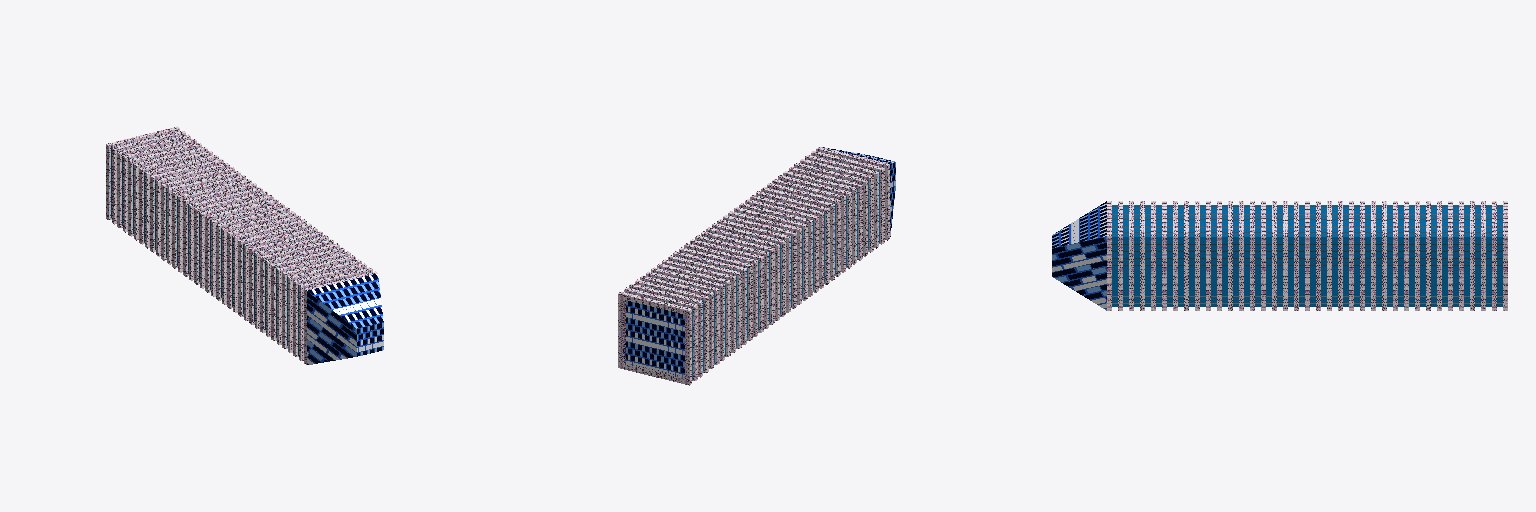
3 views of the same model, side by side, from view 1: azimuth 30°, elevation 25°; view 2: azimuth 150°, elevation 25°; view 3: azimuth 270°, elevation 25° (orthographic).
Parts seen in each view (by area): view 1: Wall_01, Wall_02, Slab_01, Glass_01; view 2: Wall_02, Wall_01, Slab_01, Glass_01; view 3: Wall_01, Glass_01, Slab_01, Frame_01.
Boxes of the visible parts, x1=… form: Wall_01: x1=106, y1=126, x2=377, y2=364; Wall_02: x1=109, y1=129, x2=372, y2=360; Slab_01: x1=307, y1=274, x2=383, y2=364; Glass_01: x1=111, y1=132, x2=370, y2=354; Wall_02: x1=618, y1=149, x2=887, y2=385; Wall_01: x1=618, y1=147, x2=889, y2=384; Slab_01: x1=623, y1=147, x2=895, y2=378; Glass_01: x1=629, y1=153, x2=883, y2=378; Wall_01: x1=1107, y1=201, x2=1507, y2=310; Glass_01: x1=1112, y1=205, x2=1502, y2=306; Slab_01: x1=1052, y1=201, x2=1106, y2=310; Frame_01: x1=1112, y1=206, x2=1502, y2=303.
Bounding box in the file's own units: 900 × 900 × 4980.
Materials: 4 (2 with a texture image).